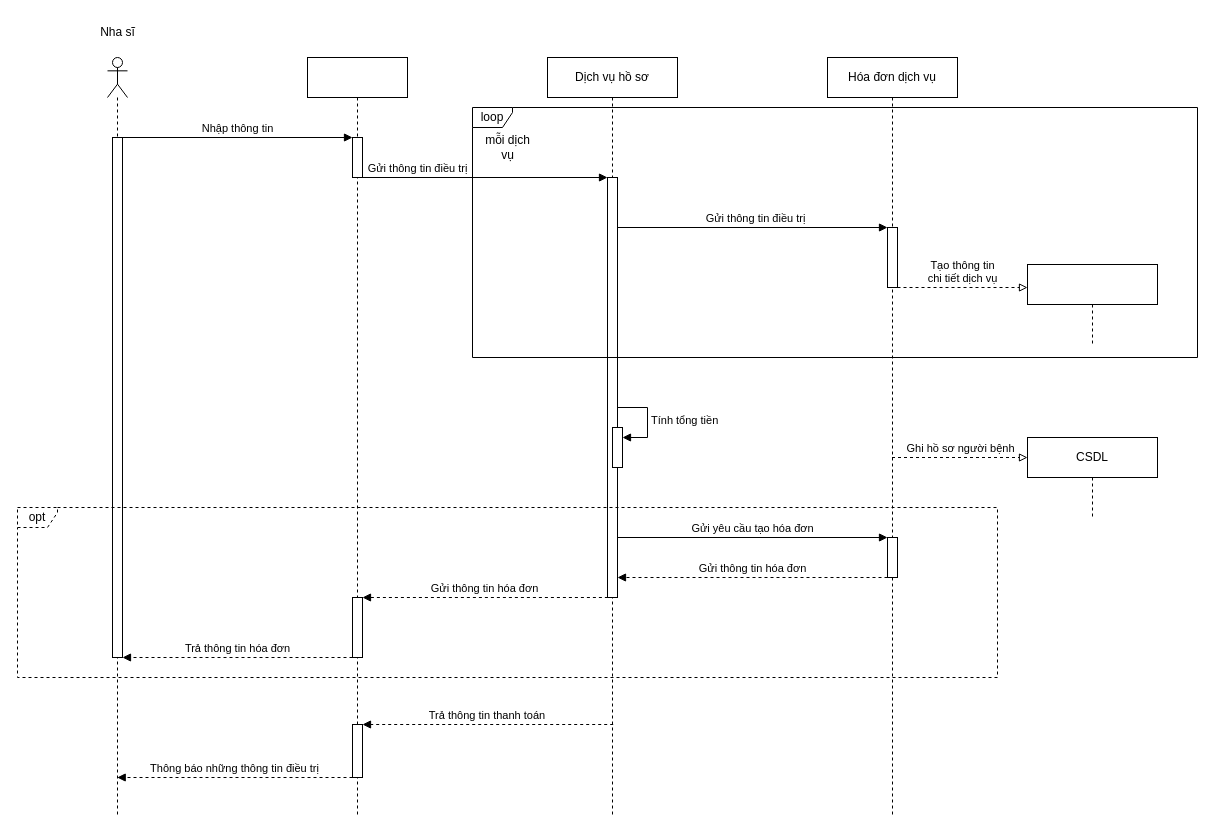
Some shapes in this 1215 by 835 pixel diagram are drawn without their labels. The box of each missing label's shape, as (x1, y1, x2, y2) in pixels:
Chi tiết hóa đơn: (1026, 264, 1158, 344)
Giao diện hệ thống: (306, 56, 408, 818)
